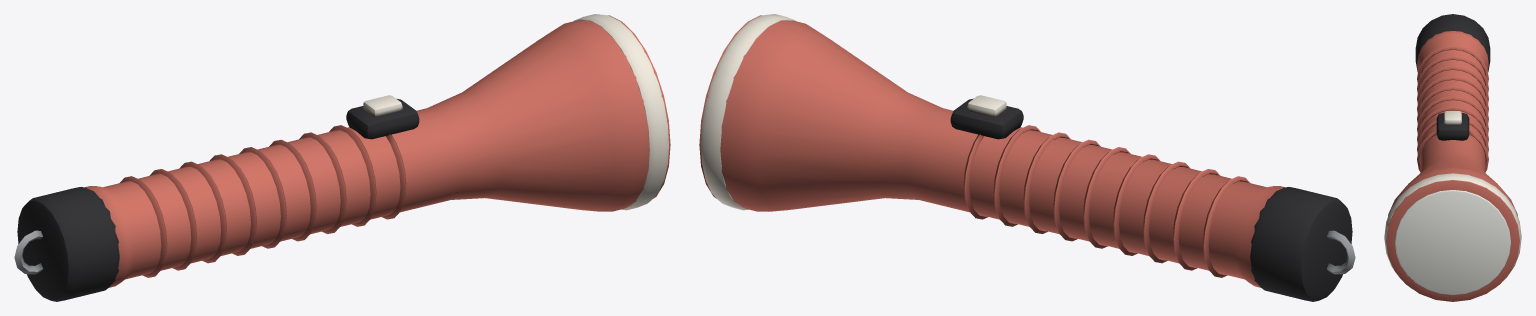
The model's file is nd_flashlight.glb.
3 views of the same model, side by side, from view 1: azimuth 30°, elevation 25°; view 2: azimuth 150°, elevation 25°; view 3: azimuth 270°, elevation 25° (orthographic). The views are drawn at different scales.
Visible parts, largest first — view 1: PART, BUTTON_switch; view 2: PART, BUTTON_switch; view 3: PART, BUTTON_switch.
Boxes of the visible parts, x1,y1,x2,y2 form: PART: (14,14,670,301); BUTTON_switch: (363,95,402,116); PART: (699,14,1355,301); BUTTON_switch: (967,95,1006,116); PART: (1384,14,1521,301); BUTTON_switch: (1444,111,1461,125).
Bounding box in the file's own units: 0.3282 × 0.092 × 0.092.
